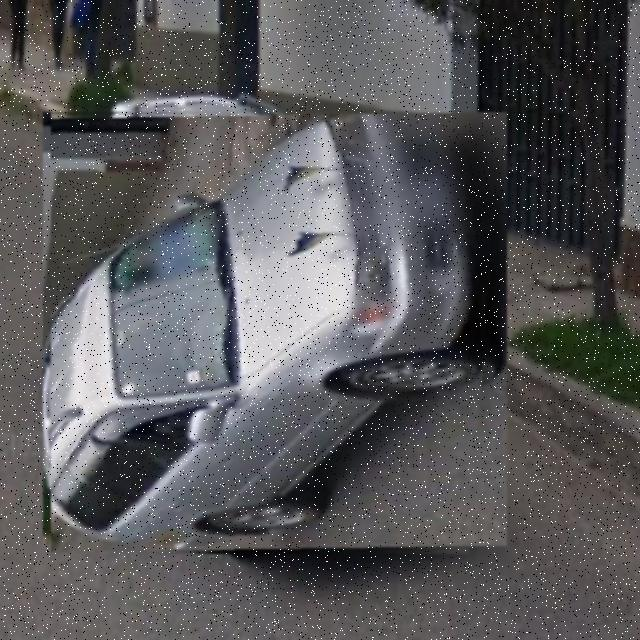car: (52, 106, 501, 555)
